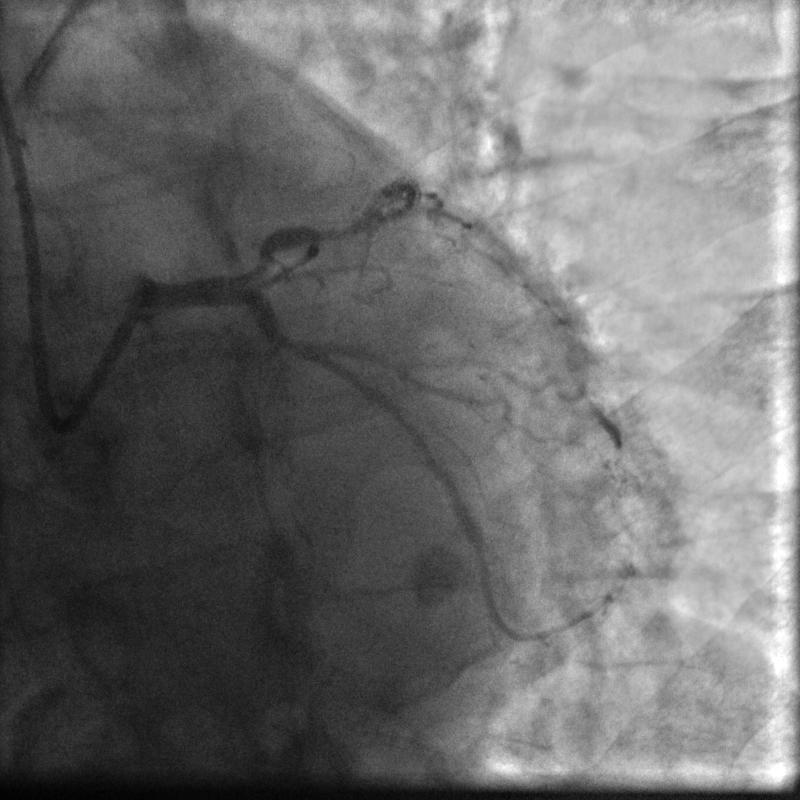Stenosis: (239, 245, 274, 292)
